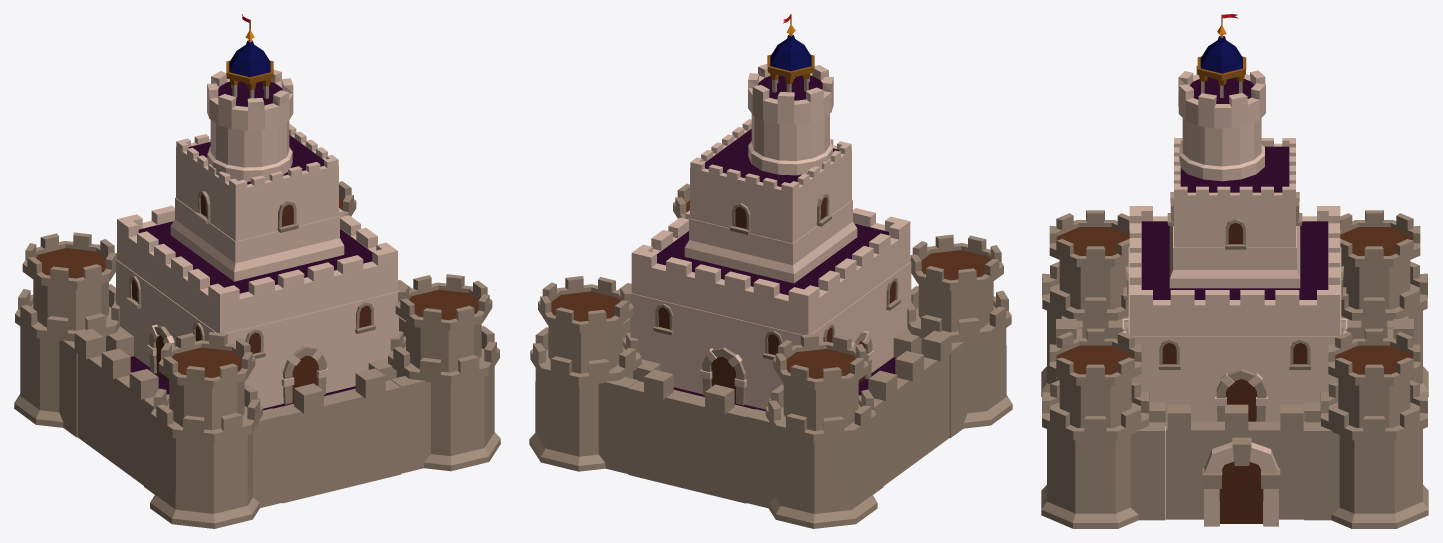
Rendered from castle_lowpoly.glb.
3 views of the same model, side by side, from view 1: azimuth 30°, elevation 25°; view 2: azimuth 150°, elevation 25°; view 3: azimuth 270°, elevation 25° (orthographic). The views are drawn at different scales.
Parts seen in each view (by area): view 1: Cube_6; view 2: Cube_6; view 3: Cube_6.
Part boxes in pixels (bbox=[...]): Cube_6: bbox=[14, 14, 500, 528]; Cube_6: bbox=[529, 14, 1012, 528]; Cube_6: bbox=[1041, 14, 1428, 528].
Size of what is drawn, in the model's own units: 5.63 by 6.8 by 5.59.
